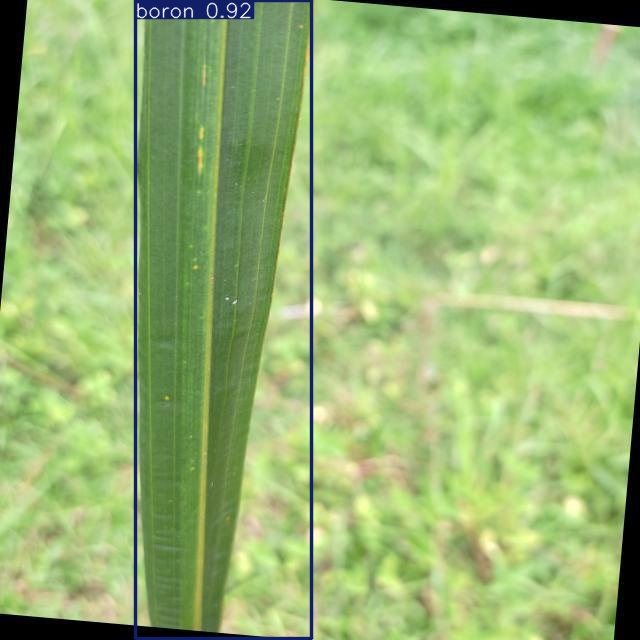nitrogen: (136, 0, 312, 639)
